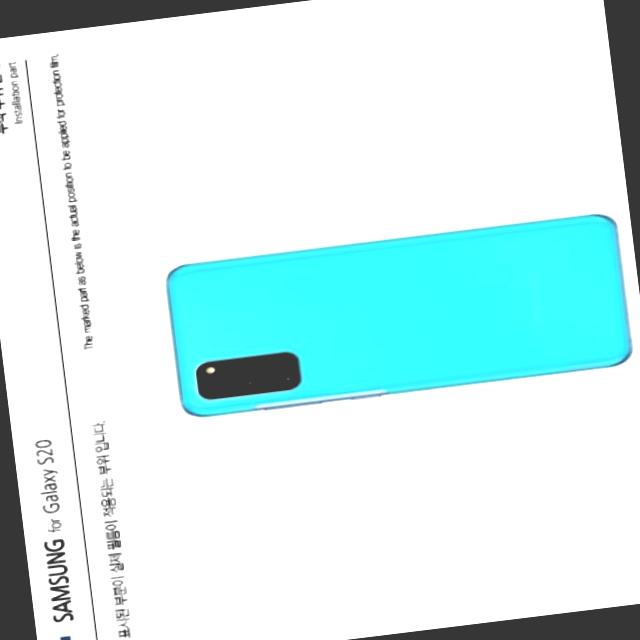lens_back: (271, 357, 299, 393), (202, 374, 226, 404), (237, 368, 262, 392)
phone: (160, 210, 636, 420)
